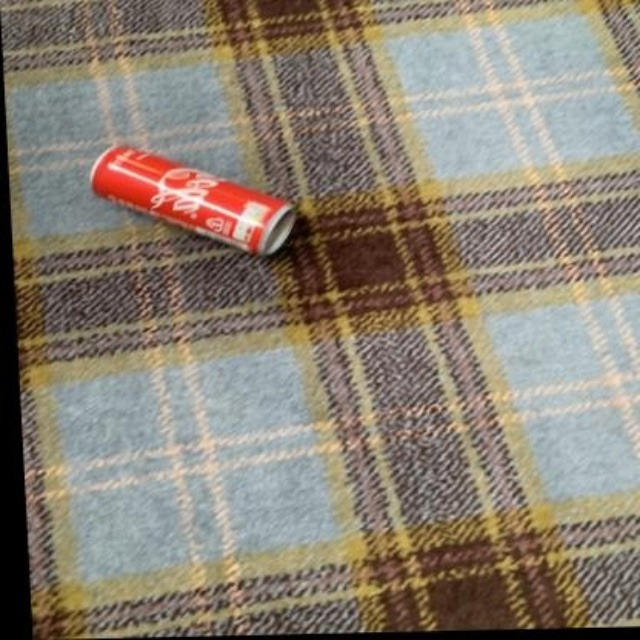trash: (91, 148, 294, 254)
